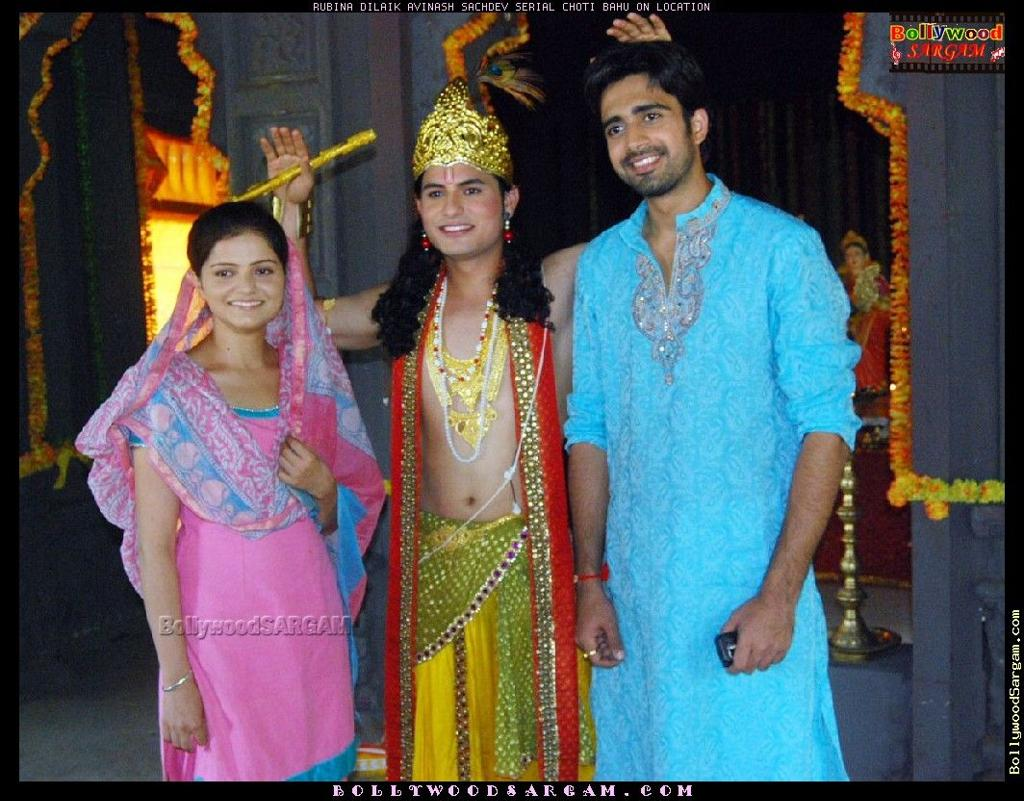face: (605, 76, 680, 190), (206, 232, 280, 327), (424, 152, 494, 248)
